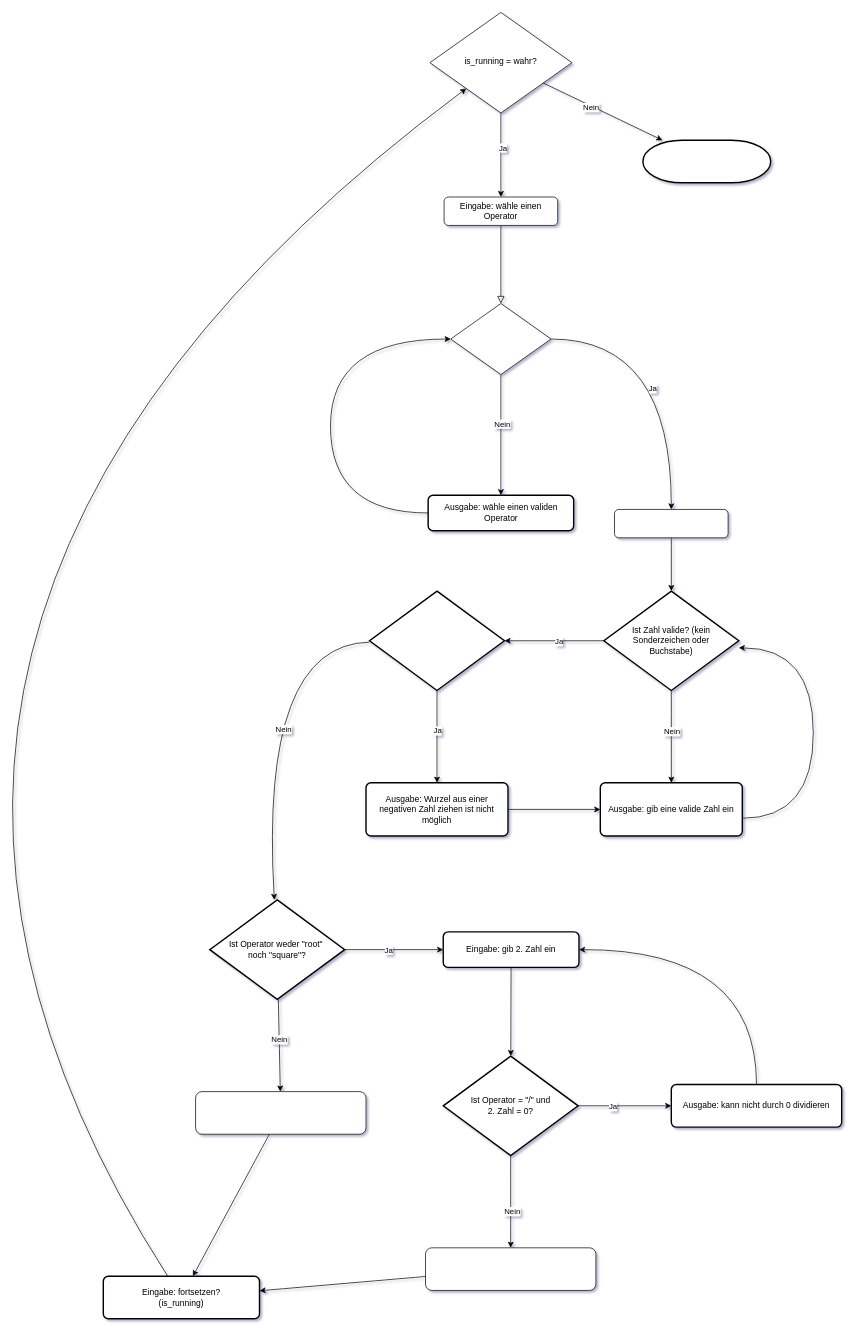
Image size: 859x1336. Some labels were removed from this diagram. The shapes that lost their labels are listed below. From the top down, each one's centre as x and y in pixels, then its label:
point (706, 161): Programm Beendet
point (500, 339): Operatorwahl valide?
point (671, 523): Eingabe: gib 1. Zahl ein
point (436, 640): Ist Operator = "root" und eingegebene Zahl < 0 ?
point (280, 1112): Ausgabe: kalkuliertes Resultat anhand des Operators und Zahl 1.
point (510, 1268): Ausgabe: kalkuliertes Resultat anhand des Operator, 1. Zahl und 2. Zahl
